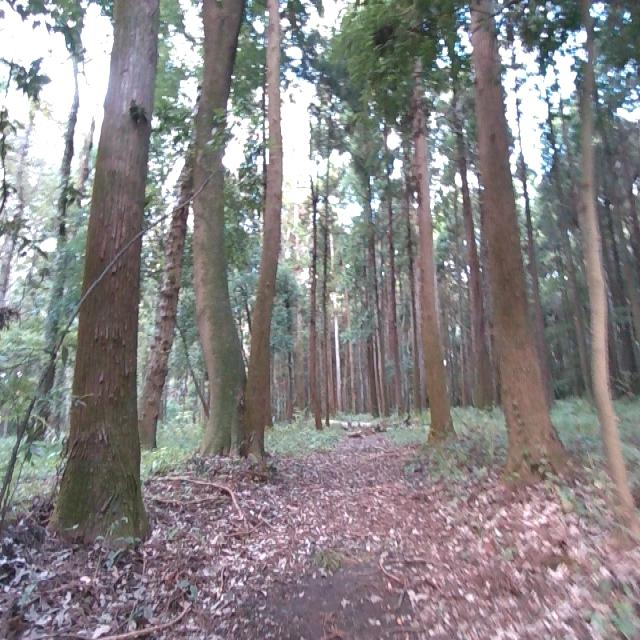tree: (41, 2, 160, 546), (462, 0, 565, 479), (569, 0, 640, 517), (184, 0, 247, 459), (240, 0, 301, 453), (404, 0, 450, 452), (308, 81, 335, 432), (359, 96, 382, 412)
